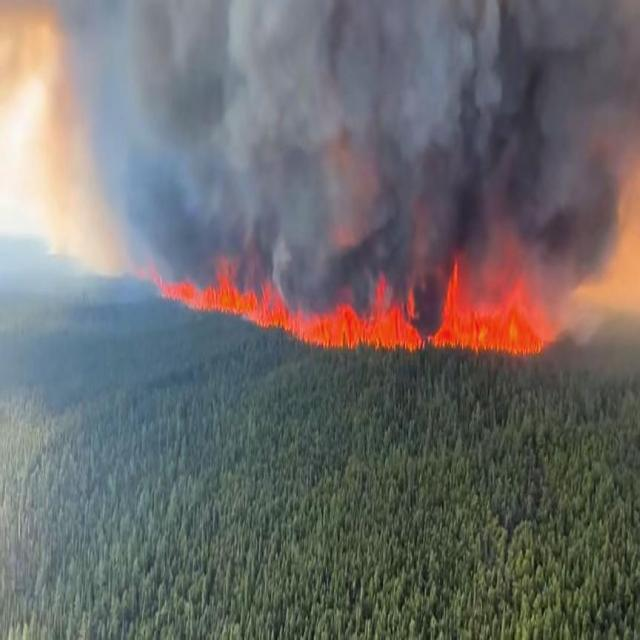fire: (144, 259, 569, 353)
smoke: (104, 1, 640, 261)
